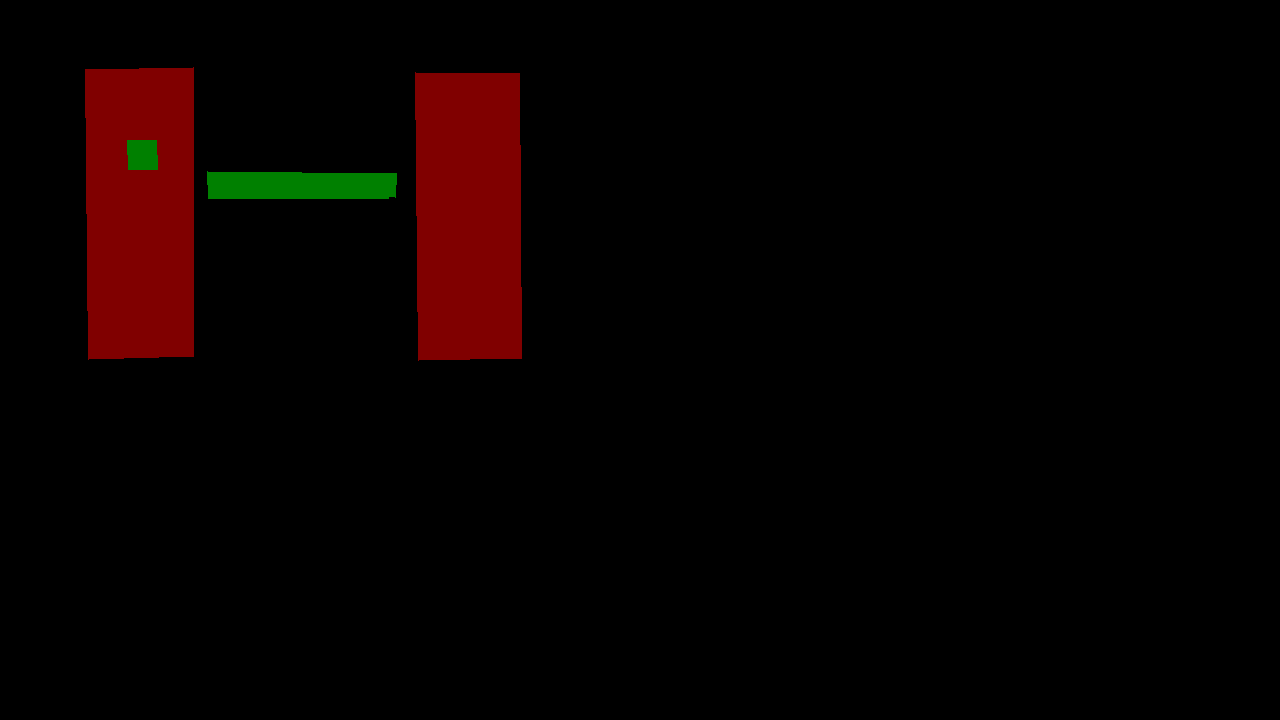door: (85, 67, 193, 359), (415, 72, 521, 360)
sign: (207, 171, 396, 198), (127, 140, 157, 169)
